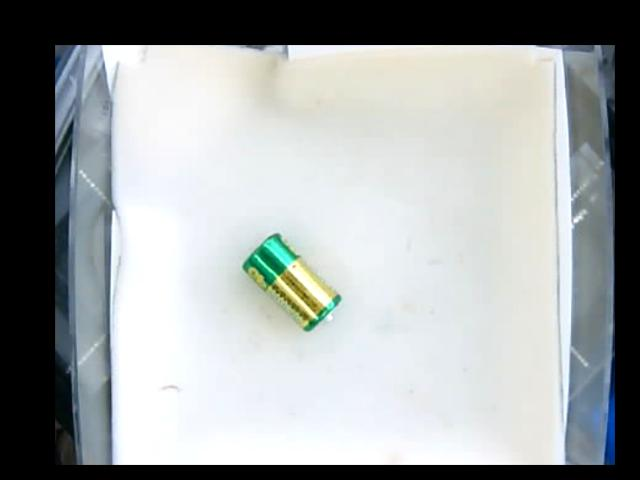Battery: (244, 231, 342, 328)
